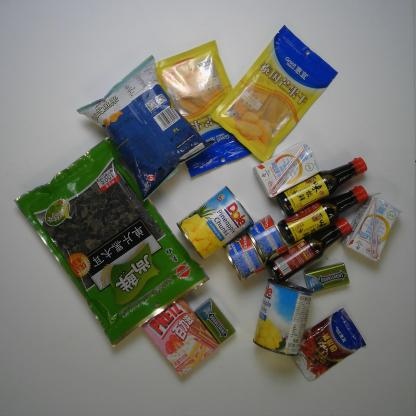Canned Food: (176, 185, 254, 260), (252, 278, 314, 357), (223, 232, 267, 282), (244, 214, 288, 263)
Dessert: (140, 298, 220, 377)
Dried Food: (13, 137, 210, 350)
Dried Fruit: (210, 23, 340, 166), (155, 38, 257, 178)
Gum: (193, 298, 237, 345), (302, 263, 350, 294)
Milk: (252, 140, 324, 200), (343, 193, 402, 262)
Puffed Food: (76, 52, 218, 201)
Seasoner: (265, 218, 352, 284), (292, 307, 367, 383), (276, 157, 369, 217), (278, 186, 369, 245)
